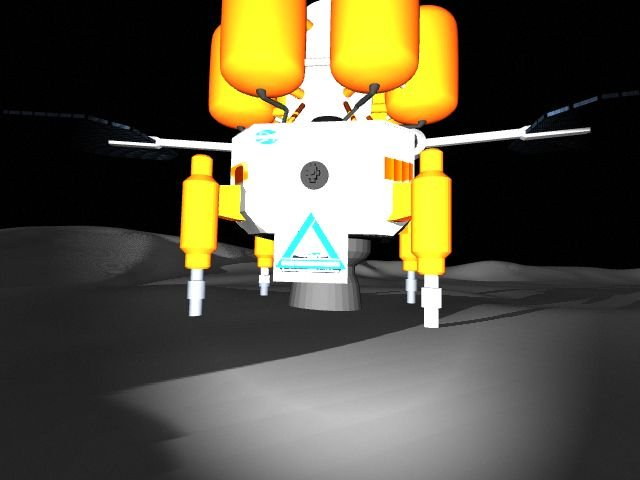basemarker: (274, 212, 346, 274)
